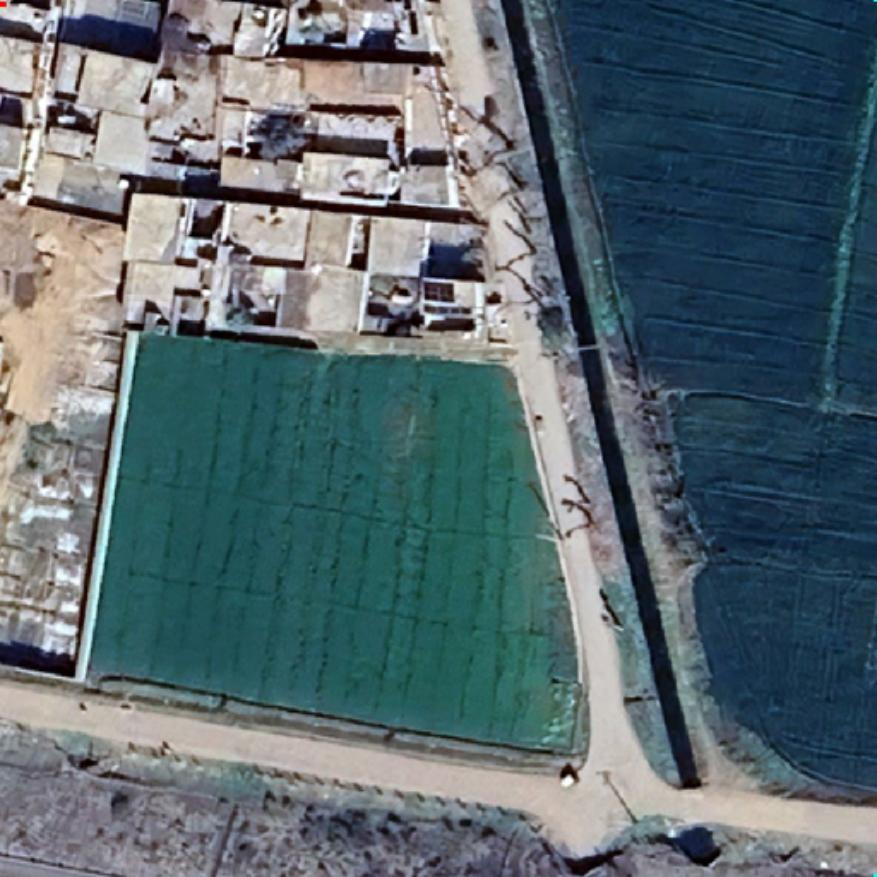Solarpanel: (420, 278, 458, 304)
